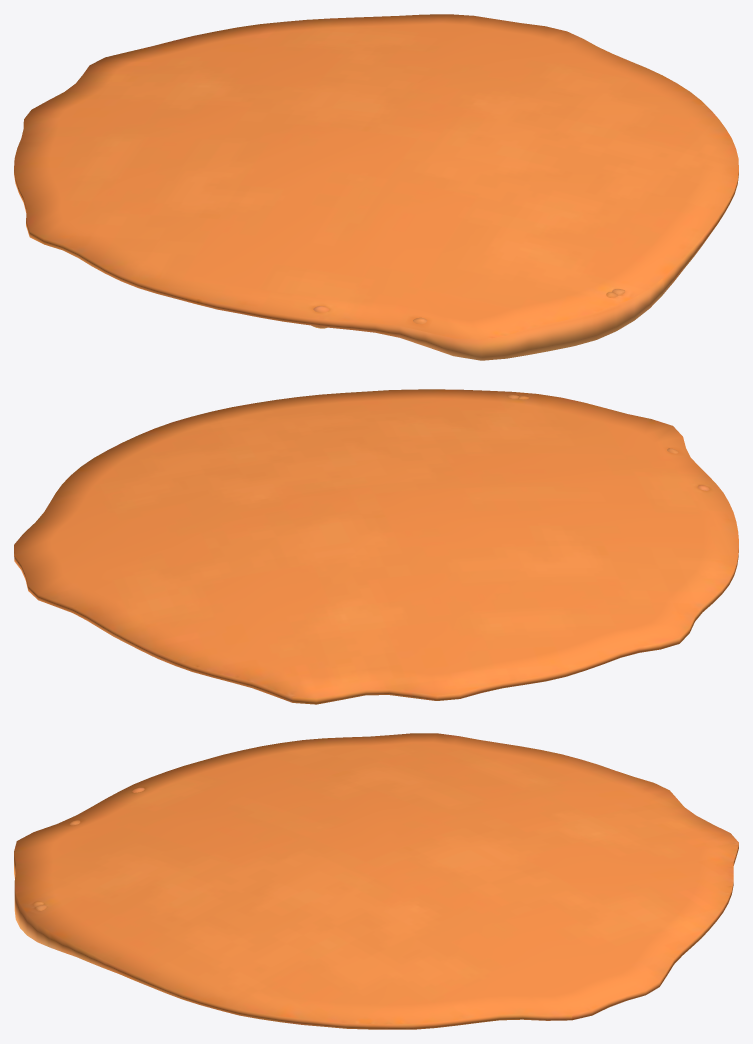
File: salsa-original-tapa.glb
The picture shows the model from 3 angles, top to bottom: view 1: azimuth 30°, elevation 25°; view 2: azimuth 150°, elevation 25°; view 3: azimuth 270°, elevation 25°; orthographic projection. The views are drawn at different scales.
Parts seen in each view (by area): view 1: salsa-original-tapa; view 2: salsa-original-tapa; view 3: salsa-original-tapa.
Part boxes in pixels (<box>): salsa-original-tapa: <box>14,14,738,360</box>; salsa-original-tapa: <box>14,389,738,704</box>; salsa-original-tapa: <box>14,733,738,1029</box>.
Size of the model in its own units: 1.8 by 0.1738 by 1.88.
Materials: 1 (1 with a texture image).
